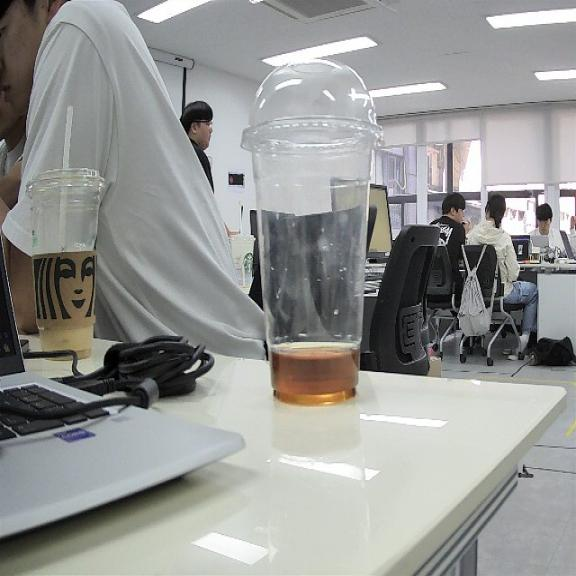Plastik: (242, 62, 381, 404)
